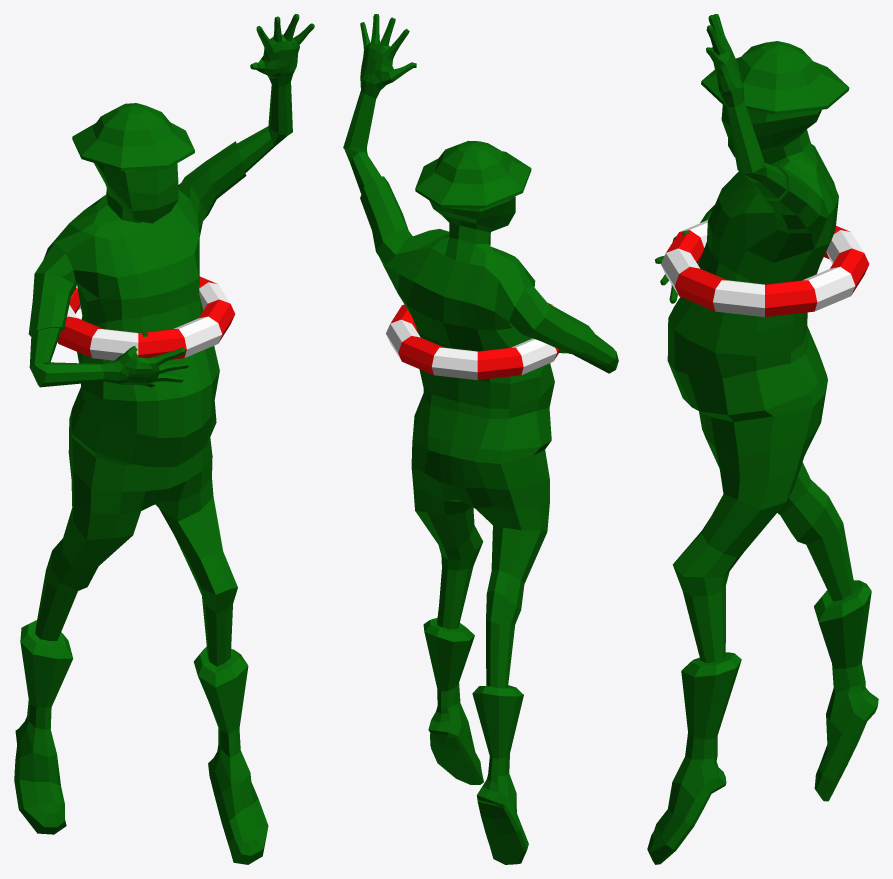
The model's file is DrowningSoldier.fbx.
3 renders of one model, left to right at view 1: azimuth 30°, elevation 25°; view 2: azimuth 150°, elevation 25°; view 3: azimuth 270°, elevation 25°, orthographic. The views are drawn at different scales.
Visible parts, largest first — view 1: Cube.011; view 2: Cube.011; view 3: Cube.011.
Part boxes in pixels (x1,y1,x2,y2): Cube.011: (14,14,314,864); Cube.011: (343,14,618,864); Cube.011: (647,14,878,864).
Bounding box in the file's own units: 5.95 × 16.75 × 4.01.
